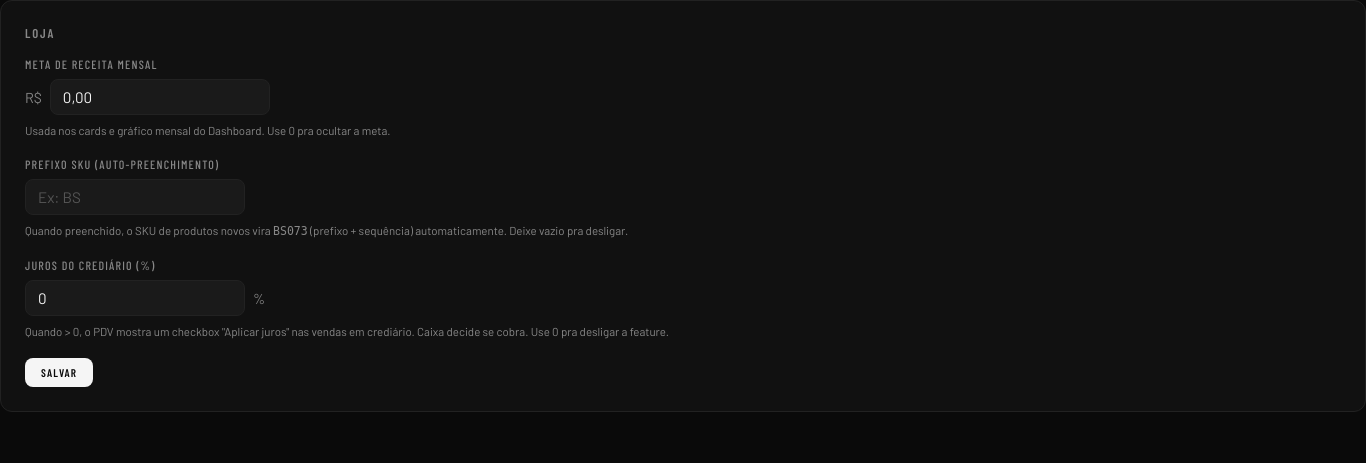
StoreSettingsSection › shows server error on patch failure
Replace the text in the field with test id "meta-receita-input" with "10000" at (160, 97), box 50,79 -> 270,115
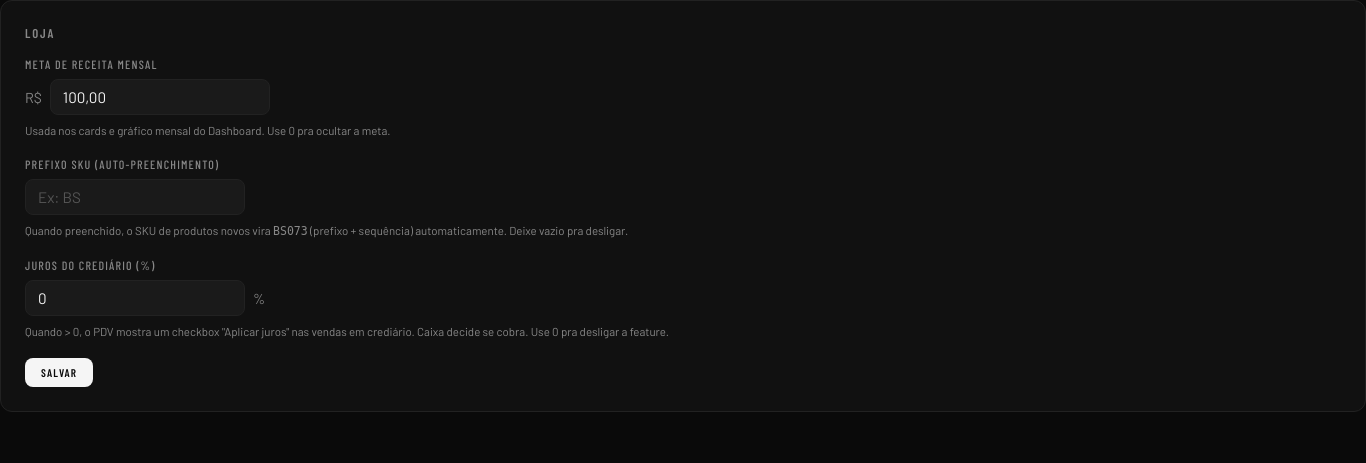
Click the button with test id "store-settings-save" at (59, 372), box 25,358 -> 93,387
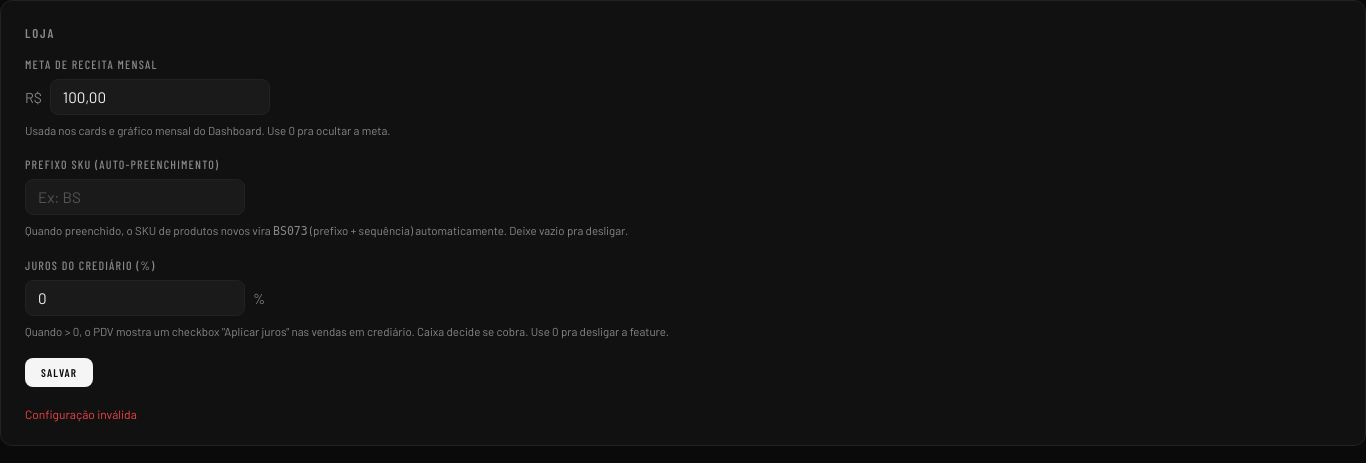
Now the text "Configuração inválida" is shown, box 25,407 -> 137,421
